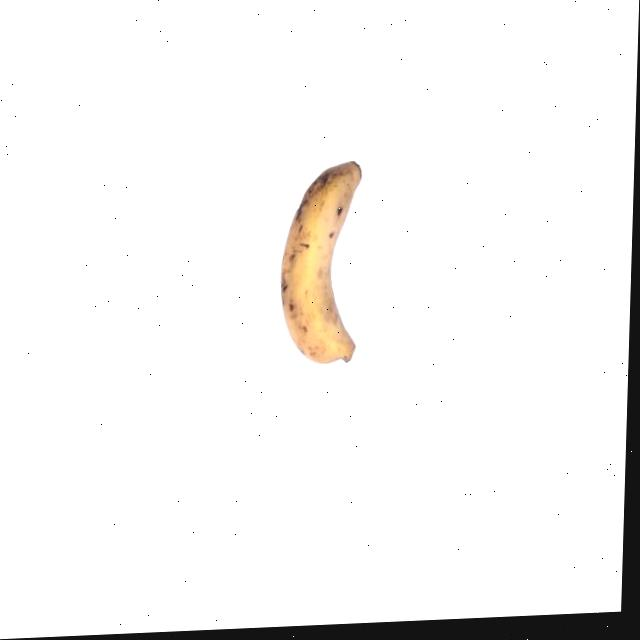banana: (275, 157, 366, 371)
